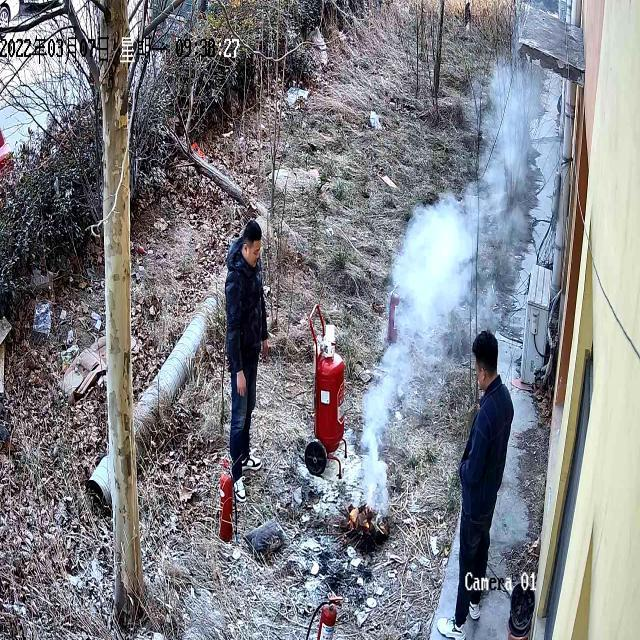Fire: (343, 498, 387, 552)
Smoke: (446, 36, 570, 306), (356, 229, 456, 467)
